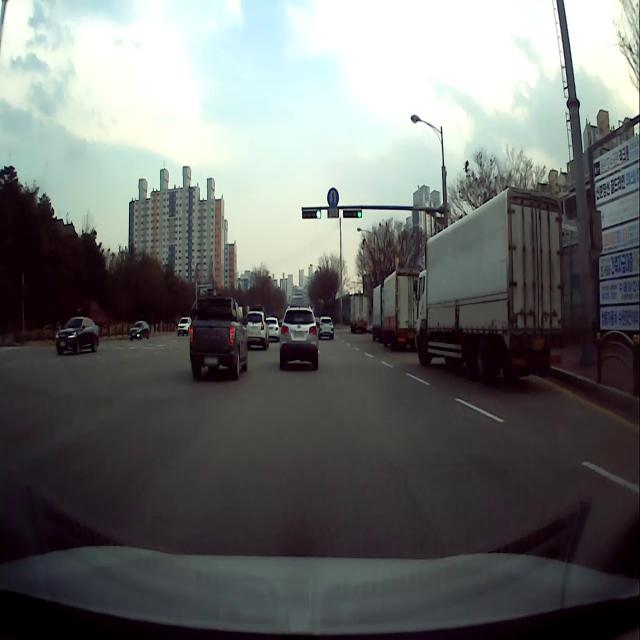Green Light: (316, 208, 321, 218), (357, 210, 362, 218)
